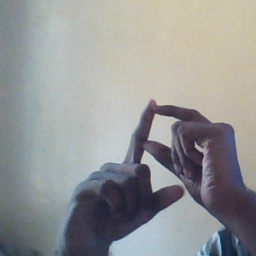D: (104, 95, 229, 215)
